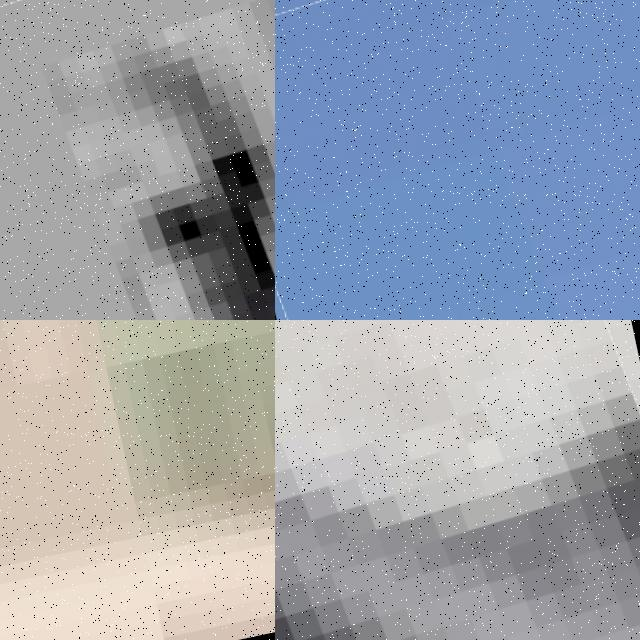0: (275, 0, 640, 320), (0, 0, 275, 320)
drone: (275, 320, 640, 640)
